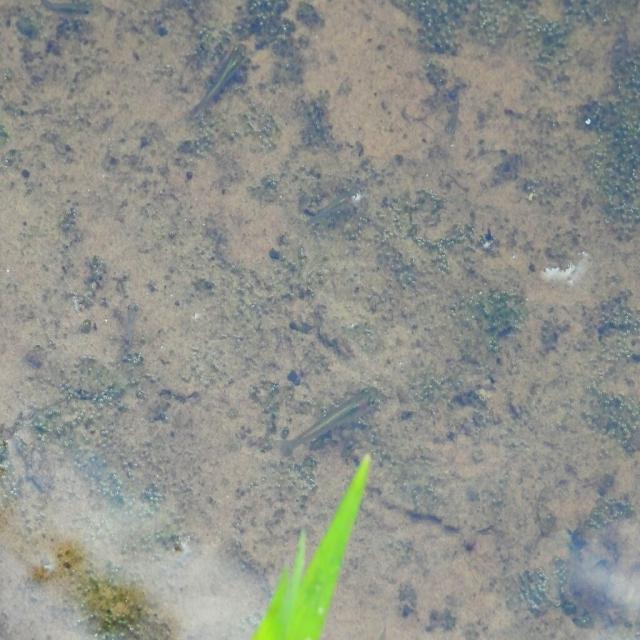Sivrisinek Baligi: (285, 385, 380, 456), (191, 35, 249, 119), (306, 183, 362, 225), (120, 294, 140, 347)
